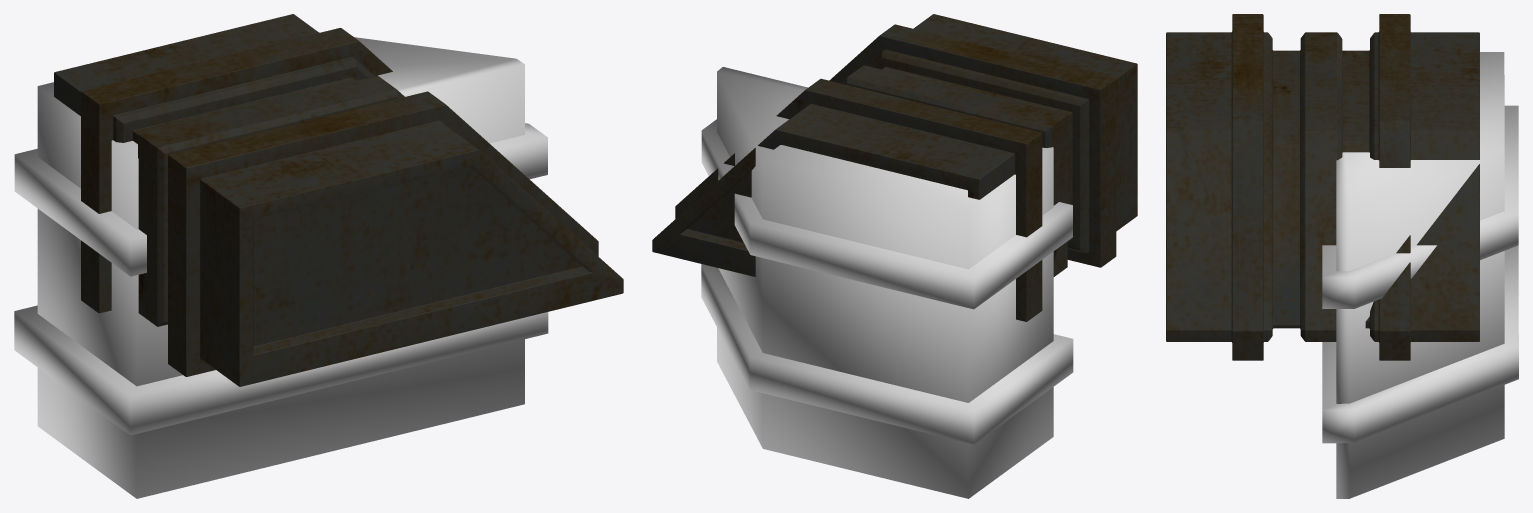
File: SM_Rail_ForCrane_Block.fbx
3 views of the same model, side by side, from view 1: azimuth 30°, elevation 25°; view 2: azimuth 150°, elevation 25°; view 3: azimuth 270°, elevation 25° (orthographic). The views are drawn at different scales.
Visible parts, largest first — view 1: SM_Rail_ForCrane_Block, SM_Rail_ForCrane_Block_ConvexHulls; view 2: SM_Rail_ForCrane_Block_ConvexHulls, SM_Rail_ForCrane_Block; view 3: SM_Rail_ForCrane_Block, SM_Rail_ForCrane_Block_ConvexHulls.
Part boxes in pixels (x1,y1,x2,y2): SM_Rail_ForCrane_Block: [54, 14, 623, 386]; SM_Rail_ForCrane_Block_ConvexHulls: [14, 32, 548, 498]; SM_Rail_ForCrane_Block_ConvexHulls: [701, 67, 1073, 498]; SM_Rail_ForCrane_Block: [652, 14, 1137, 321]; SM_Rail_ForCrane_Block: [1166, 14, 1479, 360]; SM_Rail_ForCrane_Block_ConvexHulls: [1322, 52, 1518, 498].
Size of the model in its own units: 2.95 by 2.56 by 2.55.
